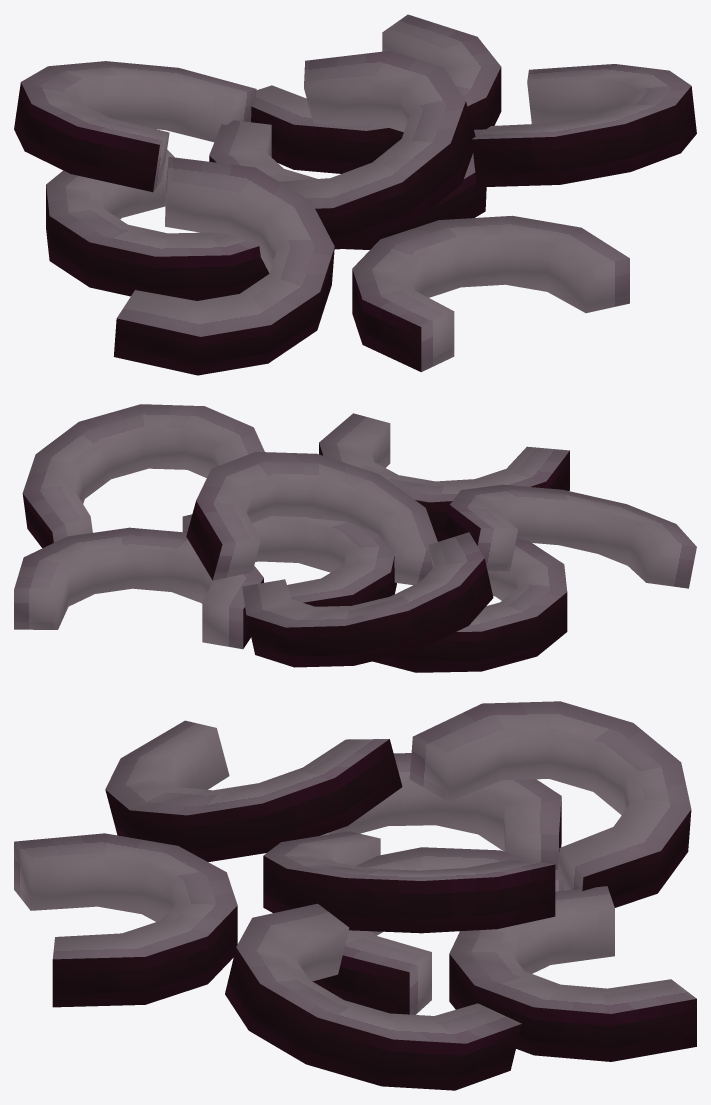
Rendered from Onion_Cut.glb.
3 renders of one model, top to bottom at view 1: azimuth 30°, elevation 25°; view 2: azimuth 150°, elevation 25°; view 3: azimuth 270°, elevation 25°, orthographic. The views are drawn at different scales.
Visible parts, largest first — view 1: CutOnion; view 2: CutOnion; view 3: CutOnion.
Boxes of the visible parts, <box> form: CutOnion: <box>14,14,696,375</box>; CutOnion: <box>14,404,696,672</box>; CutOnion: <box>14,701,696,1090</box>.
Bounding box in the file's own units: 0.2912 × 0.0506 × 0.2491.
Materials: 1 (1 with a texture image).
